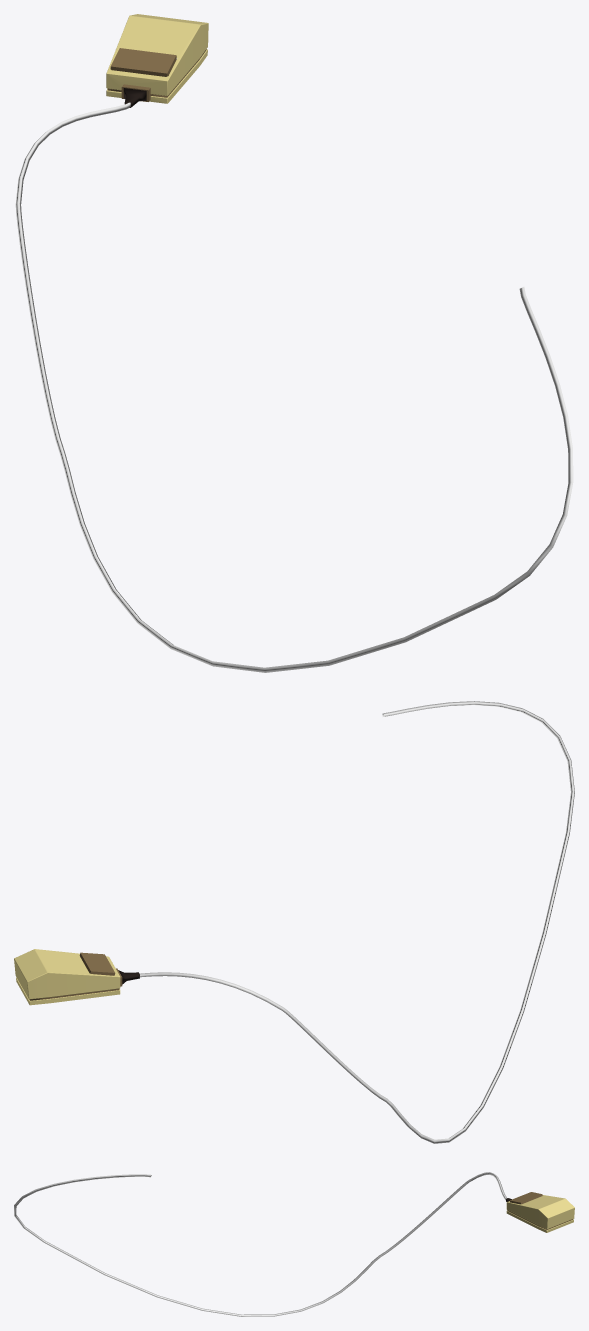
The model's file is Mouse_nib_v01.fbx.
3 views of the same model, one above another, from view 1: azimuth 30°, elevation 25°; view 2: azimuth 150°, elevation 25°; view 3: azimuth 270°, elevation 25° (orthographic). The views are drawn at different scales.
Parts seen in each view (by area): view 1: Cables_Base_Monitor.003, Mouse_MainBody.002; view 2: Mouse_MainBody.002, Cables_Base_Monitor.003; view 3: Cables_Base_Monitor.003, Mouse_MainBody.002.
Boxes of the visible parts, left/top/right/bottom form: Cables_Base_Monitor.003: left=15, top=102, right=573, bottom=672; Mouse_MainBody.002: left=106, top=14, right=208, bottom=107; Mouse_MainBody.002: left=14, top=949, right=139, bottom=1005; Cables_Base_Monitor.003: left=139, top=701, right=574, bottom=1143; Cables_Base_Monitor.003: left=14, top=1172, right=506, bottom=1316; Mouse_MainBody.002: left=506, top=1192, right=574, bottom=1232.
Bounding box in the file's own units: 47.46 × 55.85 × 143.
